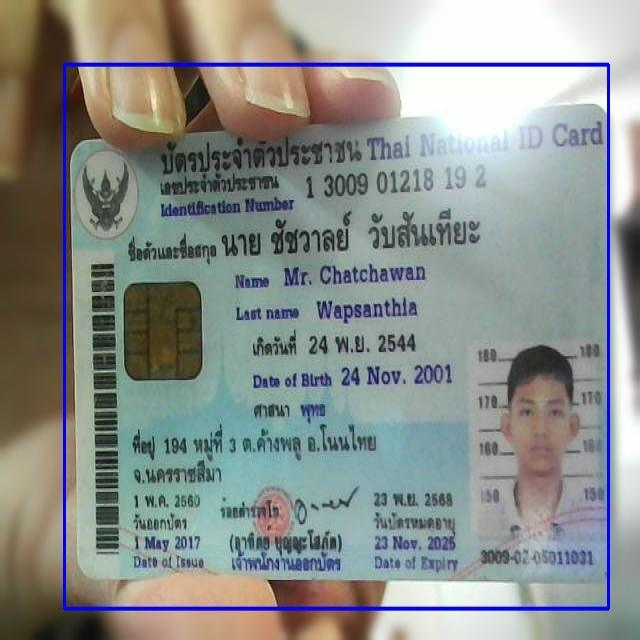Address_th: (128, 421, 392, 489)
Date_of_Birth: (338, 358, 454, 394)
Date_of_Expiry: (370, 531, 461, 556)
Date_of_Issue: (130, 530, 206, 556)
First_Name: (282, 261, 428, 289)
ID_Number: (303, 162, 489, 202)
Image: (469, 341, 596, 541)
Last_Name: (314, 293, 422, 327)
Thai_Name: (220, 206, 485, 259)
